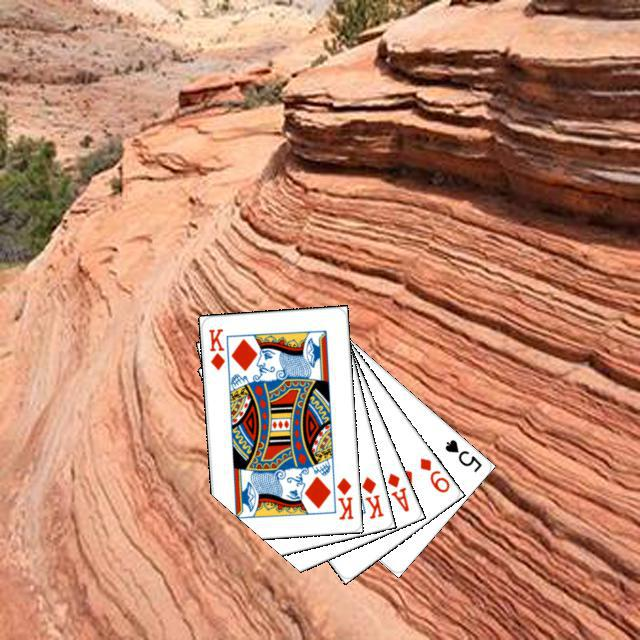5s: (440, 434, 484, 474)
9d: (415, 453, 451, 495)
Ad: (382, 468, 411, 514)
Kd: (357, 472, 385, 521), (204, 323, 227, 372), (332, 473, 355, 521)
